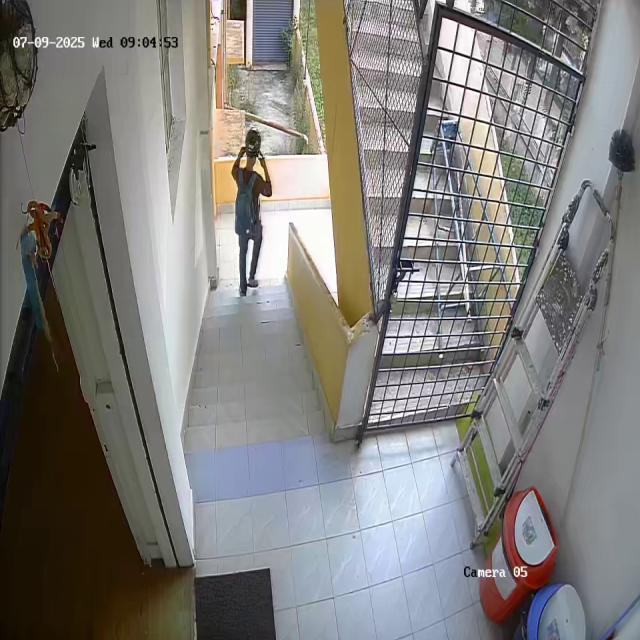person: (232, 144, 269, 291)
